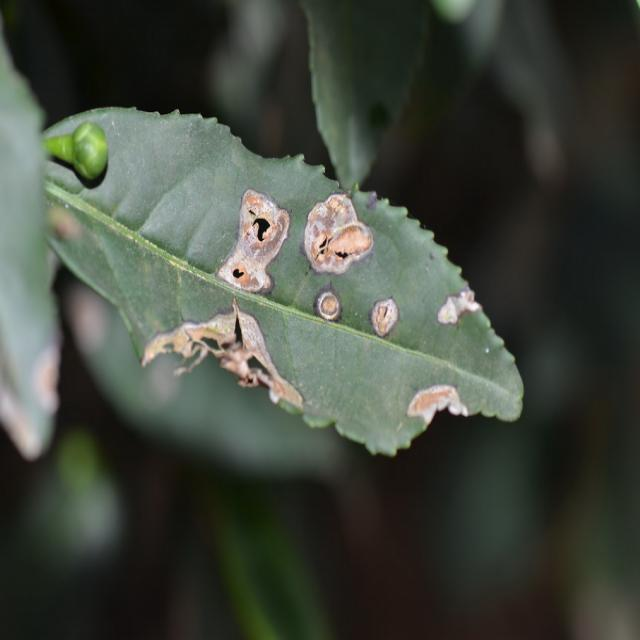Tea cloud leaf blight: (128, 300, 326, 409), (206, 157, 294, 300), (301, 175, 387, 278), (396, 363, 482, 419), (437, 273, 488, 331), (362, 289, 402, 347), (317, 280, 344, 327)
